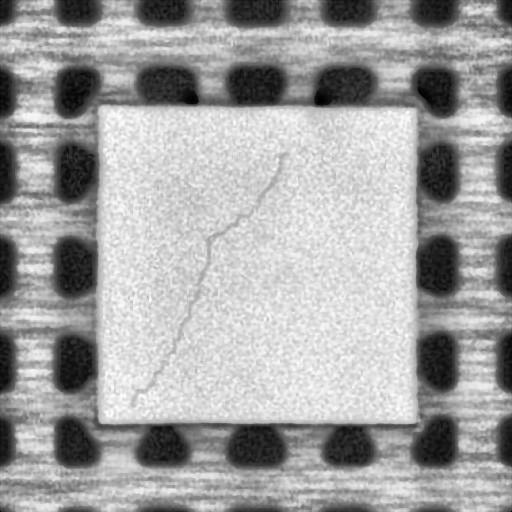DIE_CRACK: (127, 150, 283, 407)
